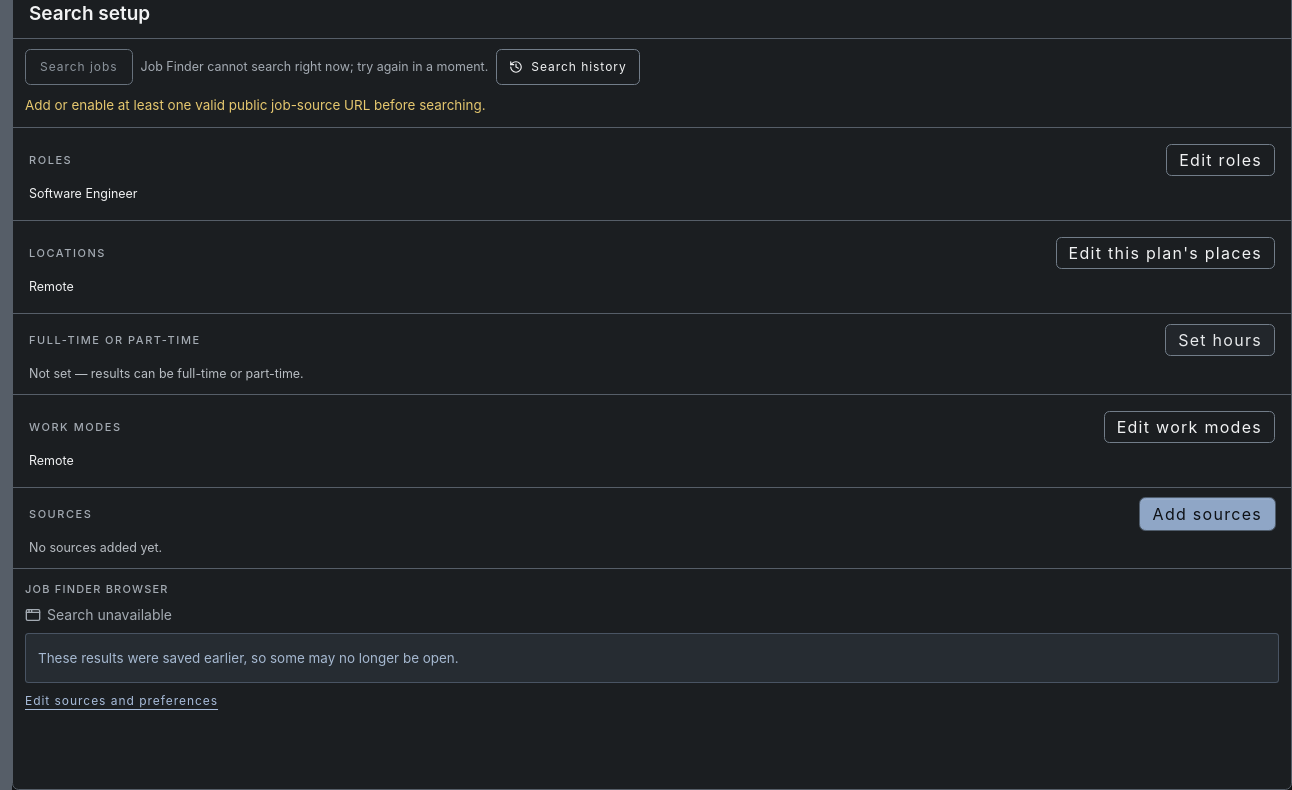
Scenario: DiscoveryFiltersPanel › makes the current-search details an independent wheel and keyboard scroll region
expect the number of buttons "Search jobs" is 1: met, box [25,49,132,85]
expect the text "Search unavailable" is shown: met, box [25,606,172,623]
Click the button "Edit this plan's places" at x=1165, y=253, box [1056,237,1275,269]
(page scrolled)
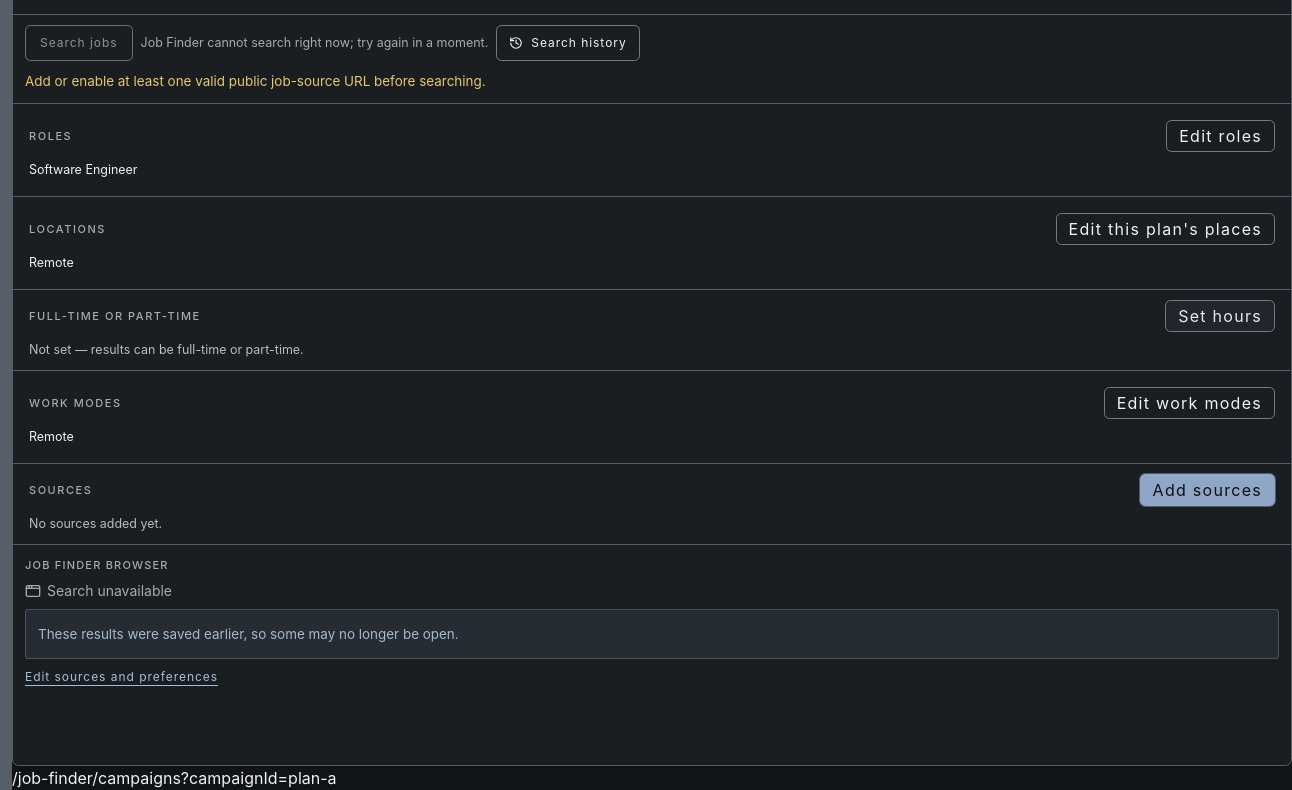
expect the text "/job-finder/campaigns?campaignId=plan-a" is shown: met, box [12,768,336,788]
